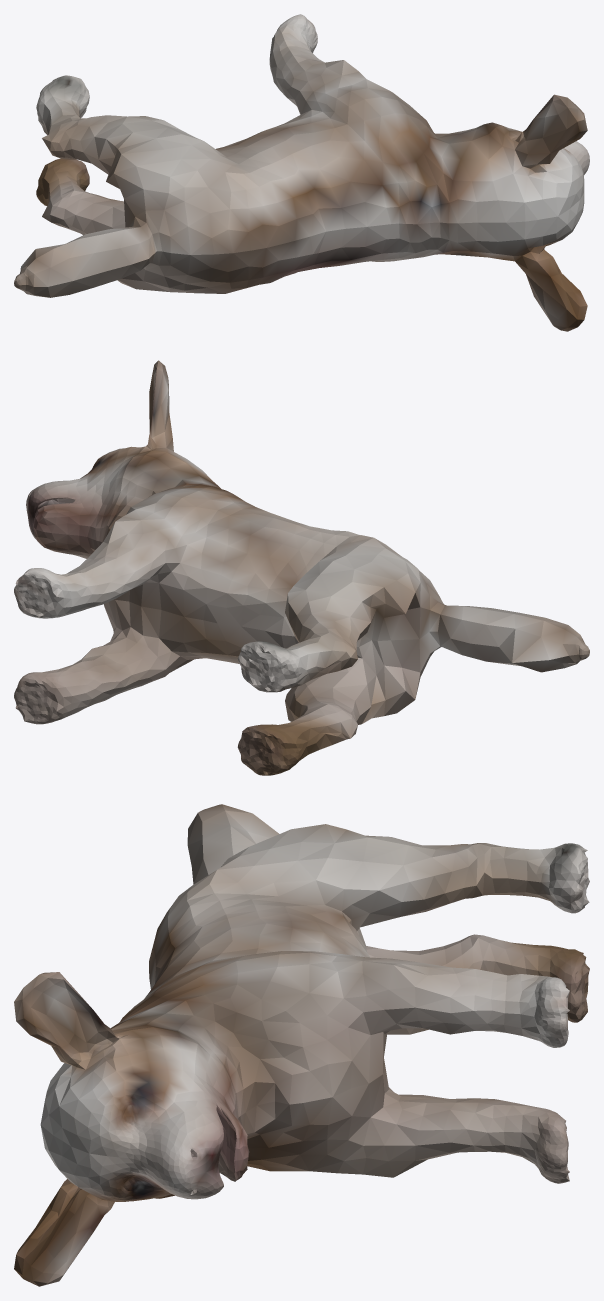
The model's file is dog.glb.
3 views of the same model, one above another, from view 1: azimuth 30°, elevation 25°; view 2: azimuth 150°, elevation 25°; view 3: azimuth 270°, elevation 25° (orthographic). The views are drawn at different scales.
Visible parts, largest first — view 1: defaultobject; view 2: defaultobject; view 3: defaultobject.
Part boxes in pixels (x1,y1,x2,y2): defaultobject: (14,14,589,331); defaultobject: (14,360,589,775); defaultobject: (14,804,589,1286).
Size of the model in its own units: 1.94 by 0.7761 by 1.3.
